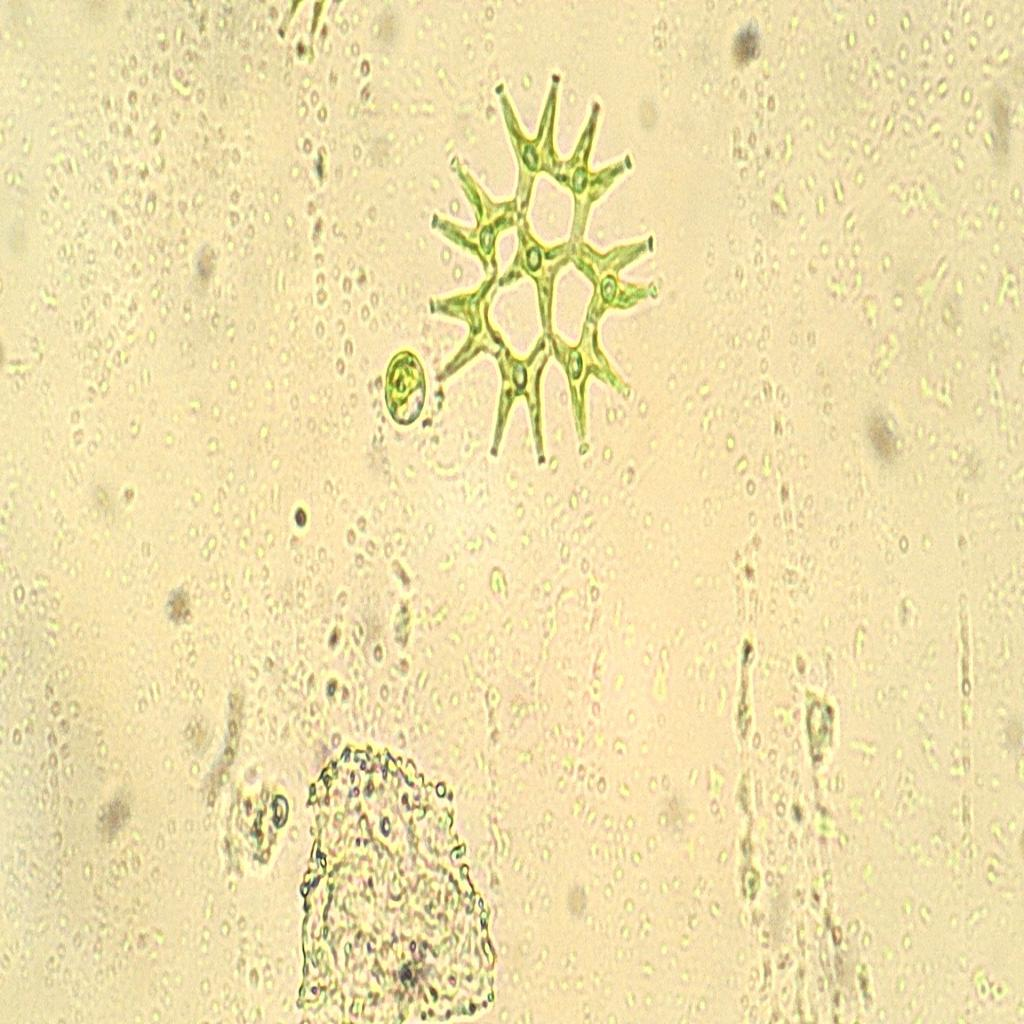Pediastrum_1T: (413, 47, 666, 503)
